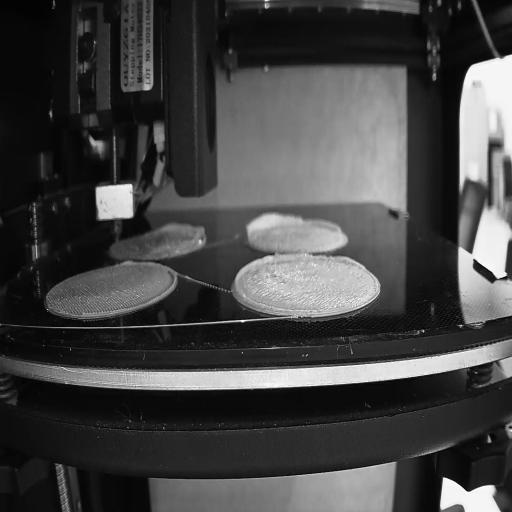over_extrusion: (234, 252, 305, 317), (244, 210, 305, 235), (158, 220, 207, 242), (310, 213, 340, 233), (334, 254, 365, 270), (119, 256, 135, 268)
